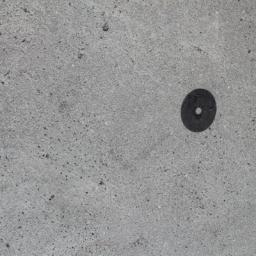FOD: (178, 88, 220, 136)
